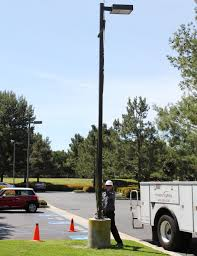Persona: (98, 177, 125, 249)
Poste: (90, 2, 129, 250)
Vehiculo: (126, 177, 197, 251)
